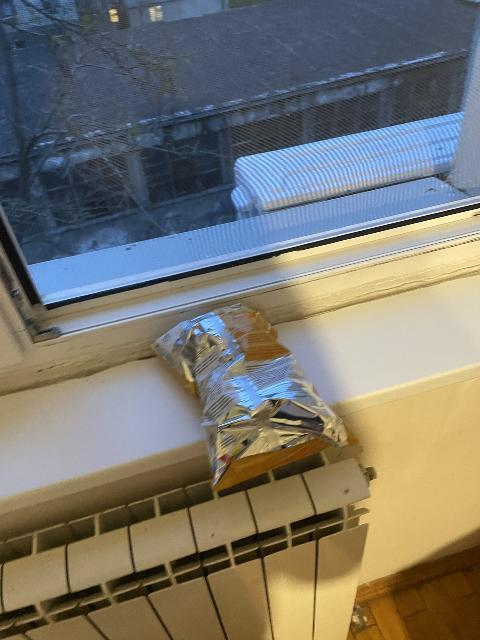Chio Hula Hoops Cheese 70g: (153, 304, 355, 487)
